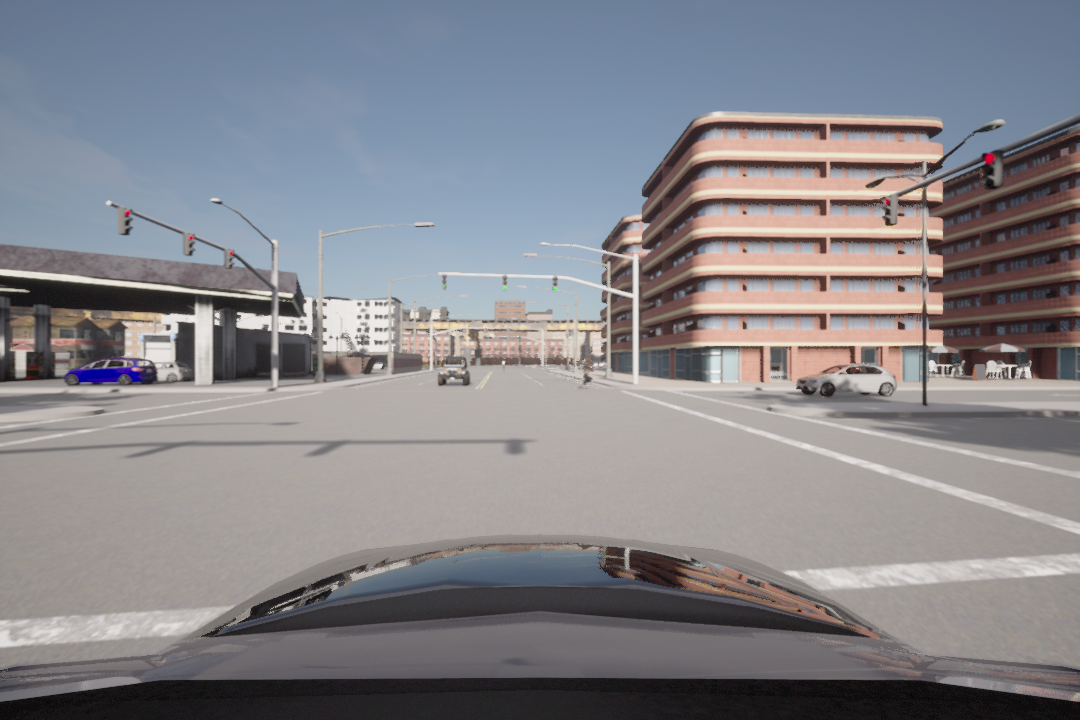TrafficLight: (978, 147, 1005, 189), (178, 227, 197, 263), (880, 193, 900, 227), (117, 204, 134, 235), (222, 245, 235, 271), (439, 271, 449, 290), (551, 275, 561, 293), (501, 274, 510, 293)
